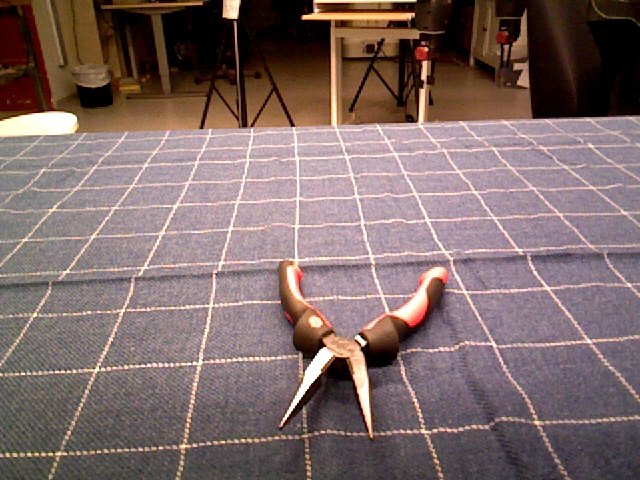plier1: (276, 264, 449, 440)
